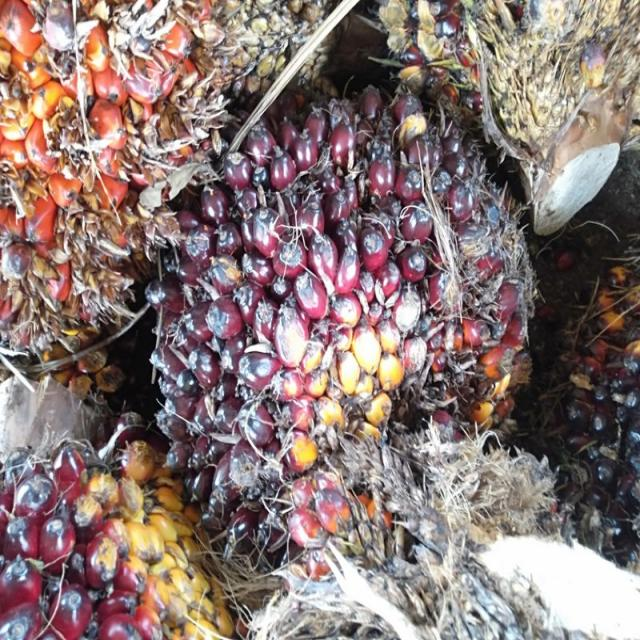fraksi 1: (149, 93, 523, 506)
